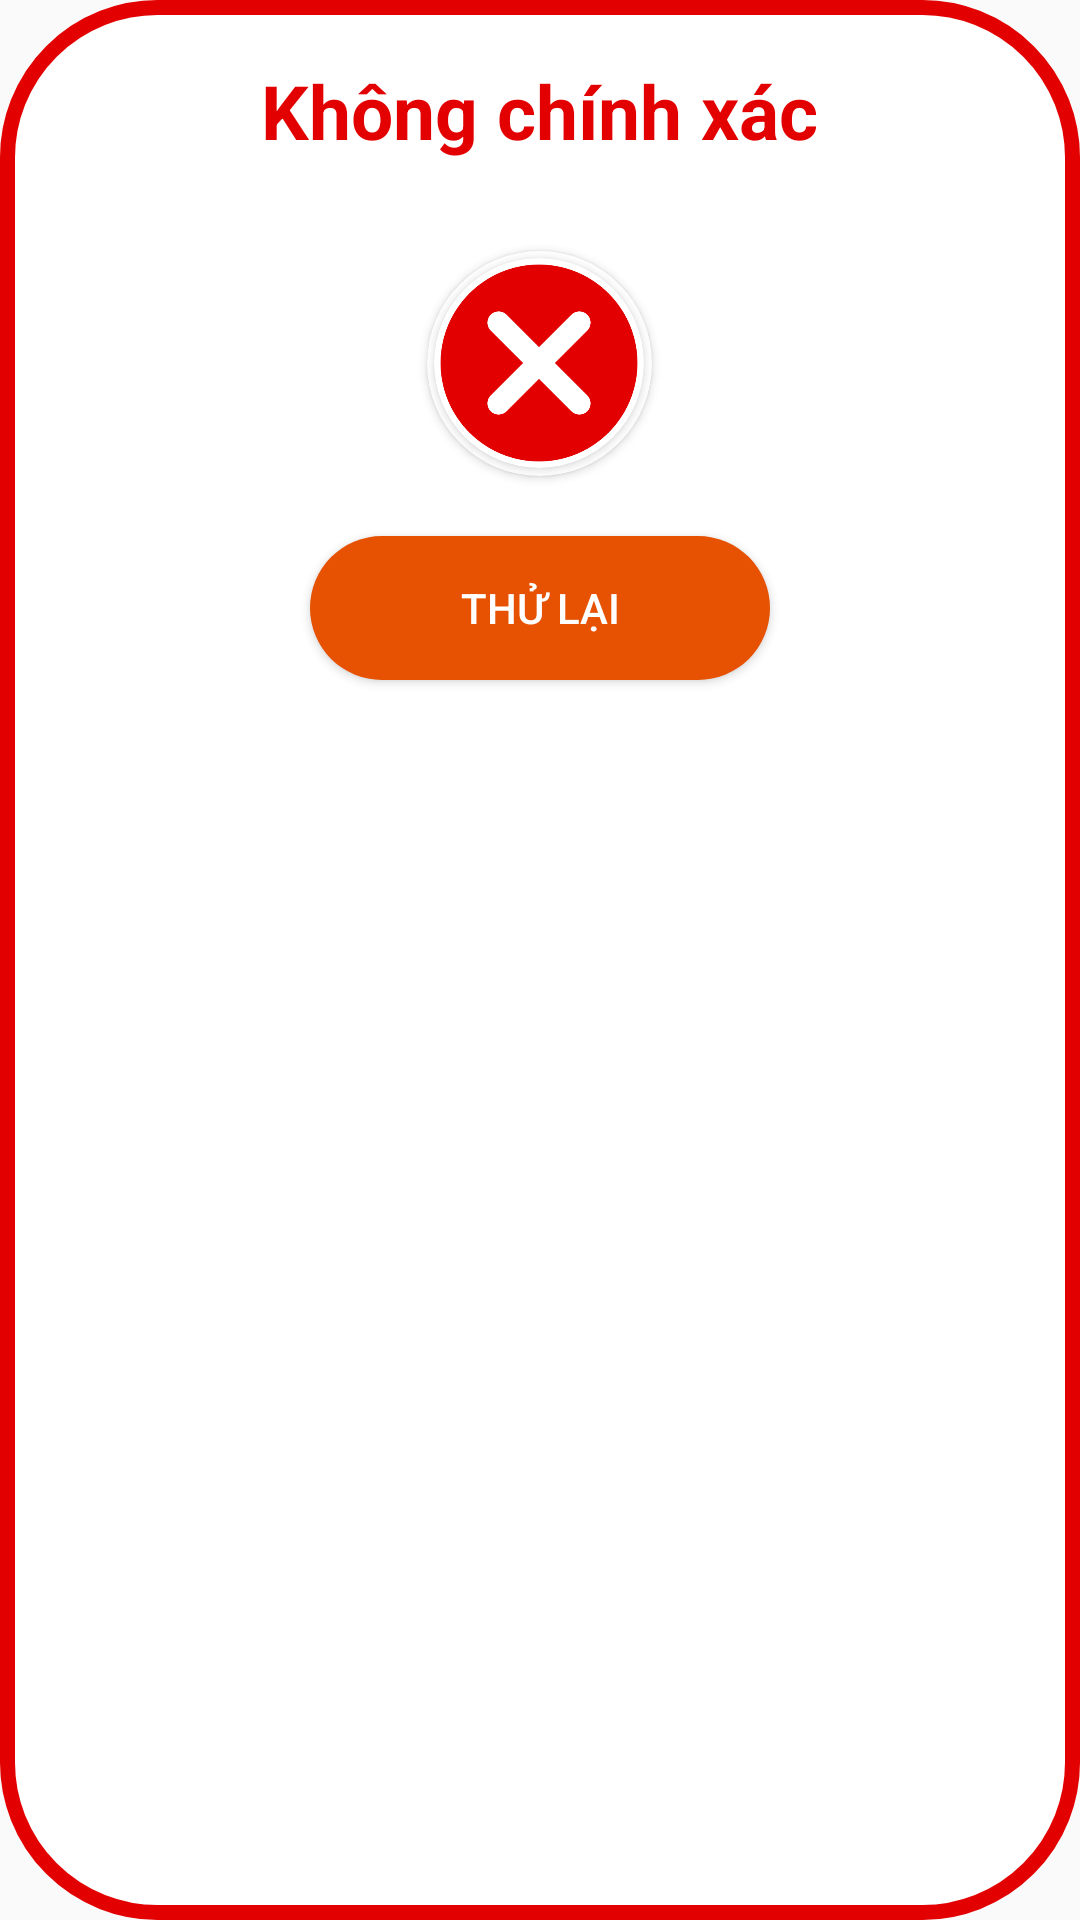

Icons on this 1080 x 1920 Android screen, each with the point to tap as (x,y):
wrong: (539,366)
